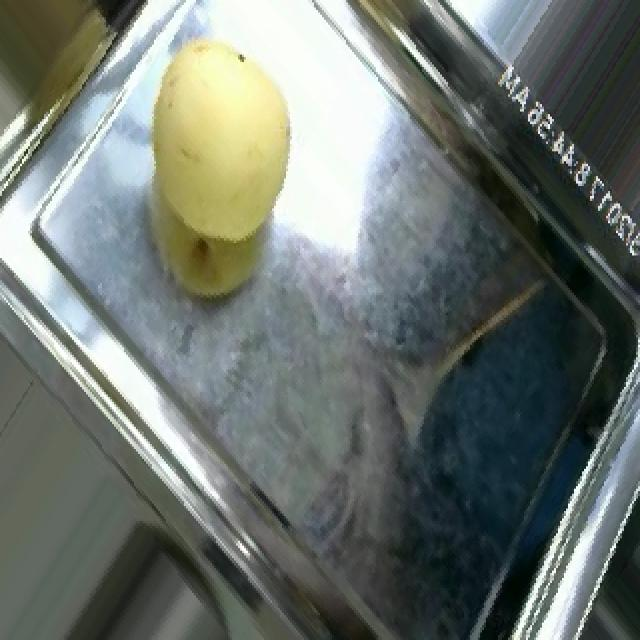Fruit: (112, 15, 312, 303)
